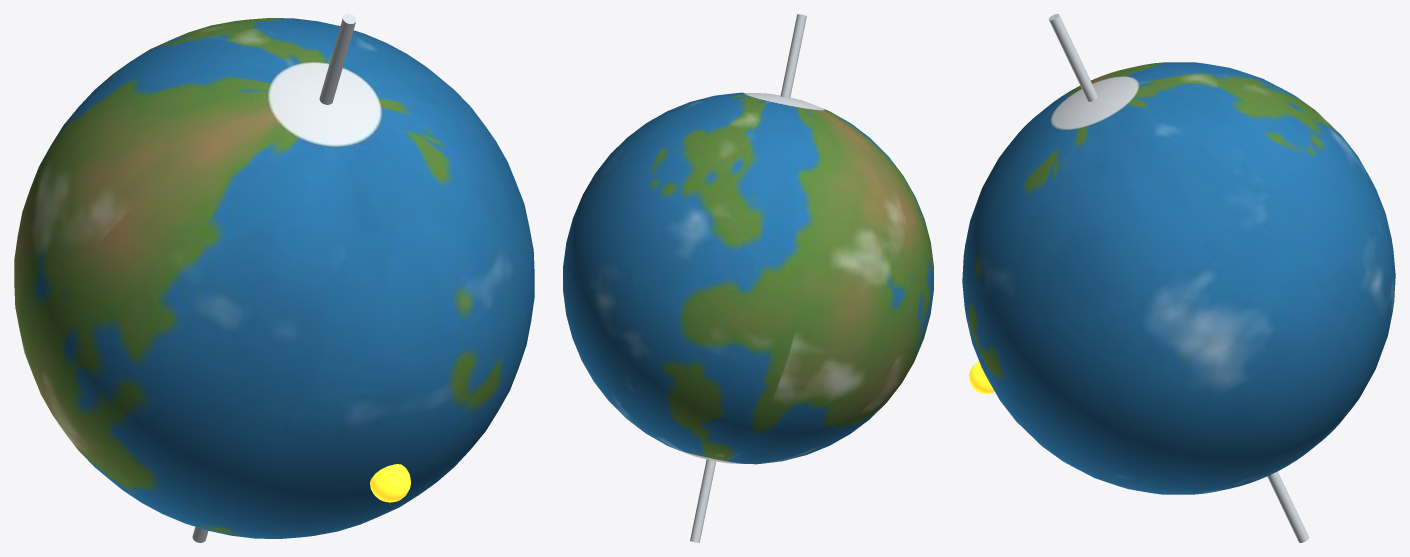
File: rotasi.glb
The picture shows the model from 3 angles, left to right: view 1: azimuth 30°, elevation 25°; view 2: azimuth 150°, elevation 25°; view 3: azimuth 270°, elevation 25°; orthographic projection. The views are drawn at different scales.
Parts seen in each view (by area): view 1: Bumi, Sumbu, Indonesia; view 2: Bumi, Sumbu; view 3: Bumi, Sumbu.
Part boxes in pixels (x1=…): Bumi: x1=14, y1=18, x2=534, y2=538; Sumbu: x1=192, y1=14, x2=356, y2=542; Indonesia: x1=370, y1=464, x2=410, y2=502; Bumi: x1=563, y1=92, x2=933, y2=464; Sumbu: x1=690, y1=14, x2=806, y2=542; Bumi: x1=962, y1=62, x2=1395, y2=494; Sumbu: x1=1048, y1=14, x2=1309, y2=542.
Bounding box in the file's own units: 0.3 × 0.4023 × 0.3.
Materials: 3 (1 with a texture image).
